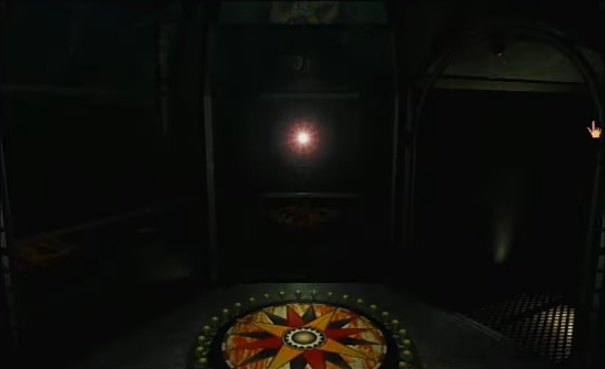Pointer: (584, 117, 604, 140)
